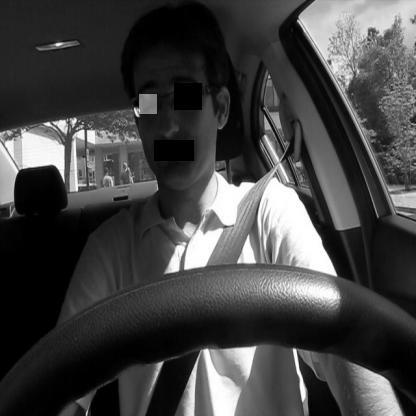seatbelt: (109, 0, 310, 416)
